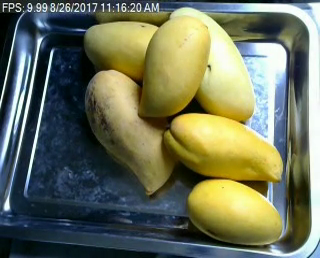Mango: (84, 70, 176, 193), (168, 7, 255, 121), (162, 114, 284, 182), (138, 16, 210, 116), (188, 179, 282, 244), (84, 22, 174, 81)
